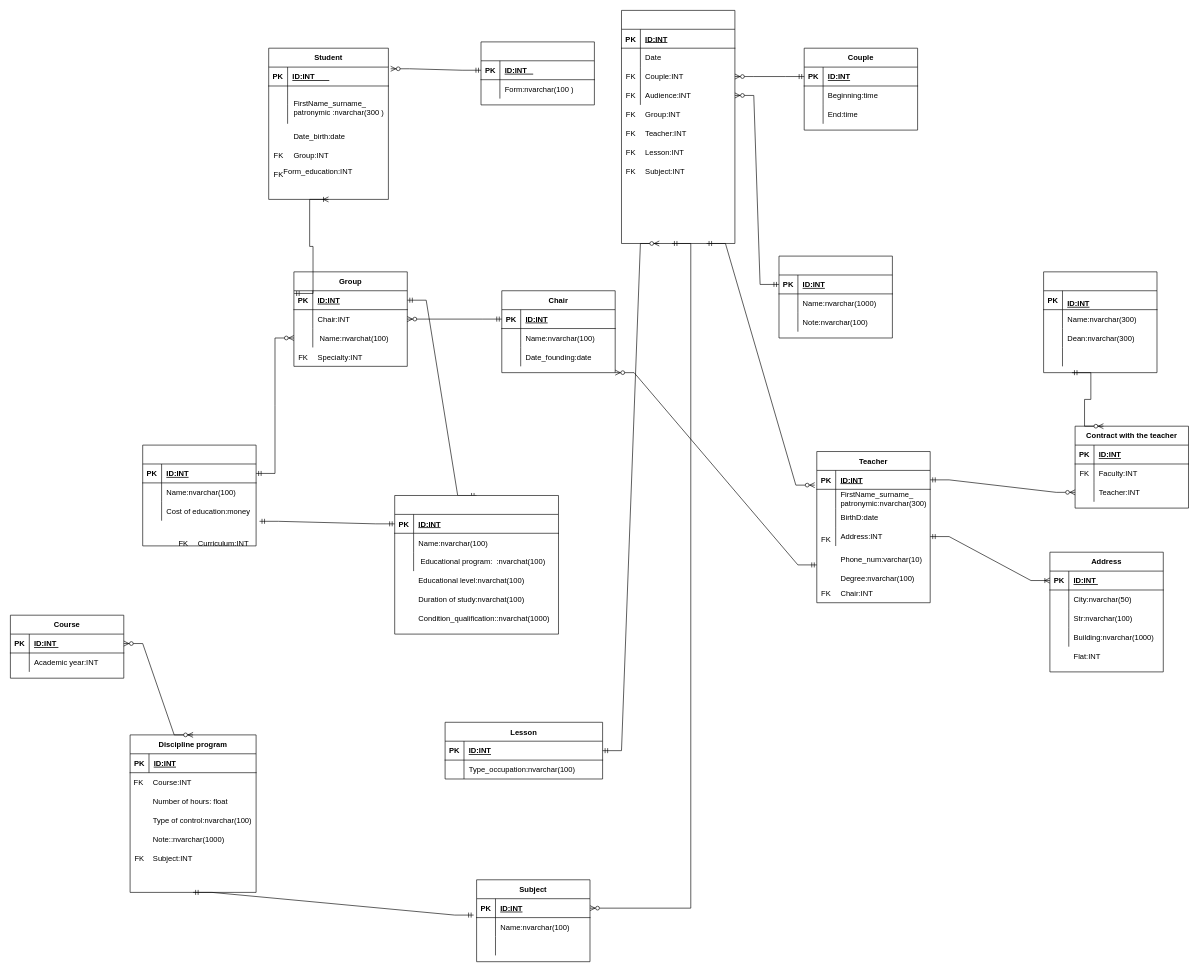
Image size: 1199x972. Some labels were removed from this diagram. The shapes that lost their labels are listed below. From the top down, each one's box as (x1, y1, x2, y2) in pixels, then its label:
(480, 41, 594, 105): Form of education
(621, 10, 735, 243): Schedule
(778, 255, 892, 338): Audience
(1043, 271, 1157, 373): Faculty
(142, 444, 256, 546): Specialty
(394, 495, 558, 634): Curriculum
